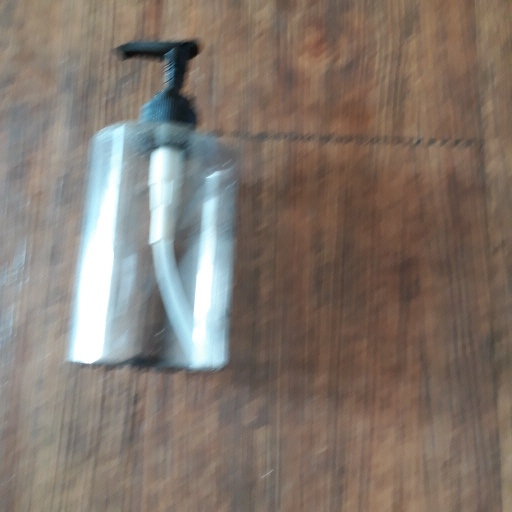Plastic_3: (66, 39, 240, 375)
